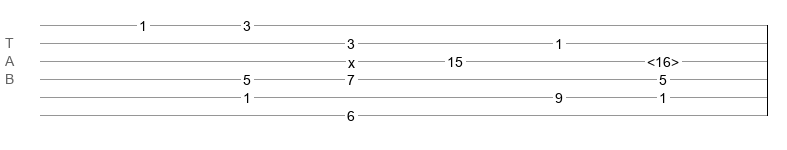1: (139, 18, 147, 28), (243, 90, 251, 100), (555, 36, 563, 46), (659, 90, 667, 100)
15: (447, 54, 463, 64)
3: (243, 18, 251, 28), (347, 36, 355, 46)
5: (243, 72, 251, 82), (659, 72, 667, 82)
6: (347, 108, 355, 118)
7: (347, 72, 355, 82)
9: (555, 90, 563, 100)
harmonic: (647, 54, 679, 64)
x: (348, 55, 355, 63)
